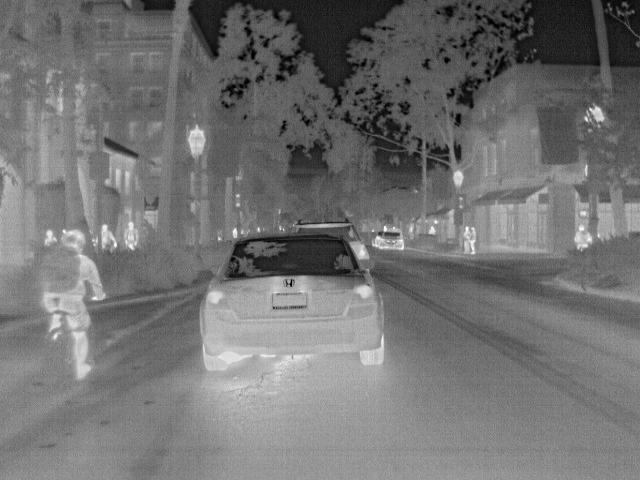car: (198, 231, 388, 377), (293, 218, 371, 260), (372, 223, 406, 251)
person: (37, 233, 106, 386), (573, 225, 594, 252), (121, 220, 139, 250), (99, 224, 117, 251), (467, 227, 479, 255), (461, 225, 471, 255), (41, 230, 56, 244), (428, 224, 437, 235)
